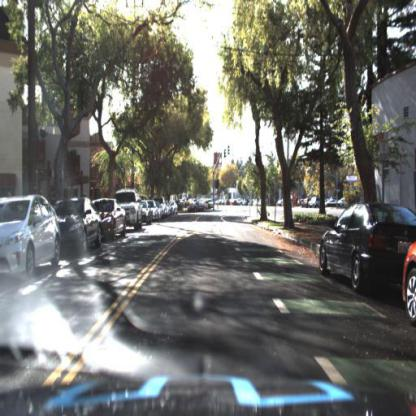car: (311, 198, 410, 301), (2, 196, 62, 285), (59, 188, 106, 263), (55, 195, 101, 255), (100, 193, 129, 245), (403, 237, 416, 329), (123, 189, 144, 234), (141, 197, 151, 226), (151, 200, 157, 225), (205, 198, 217, 210), (229, 198, 240, 210)
